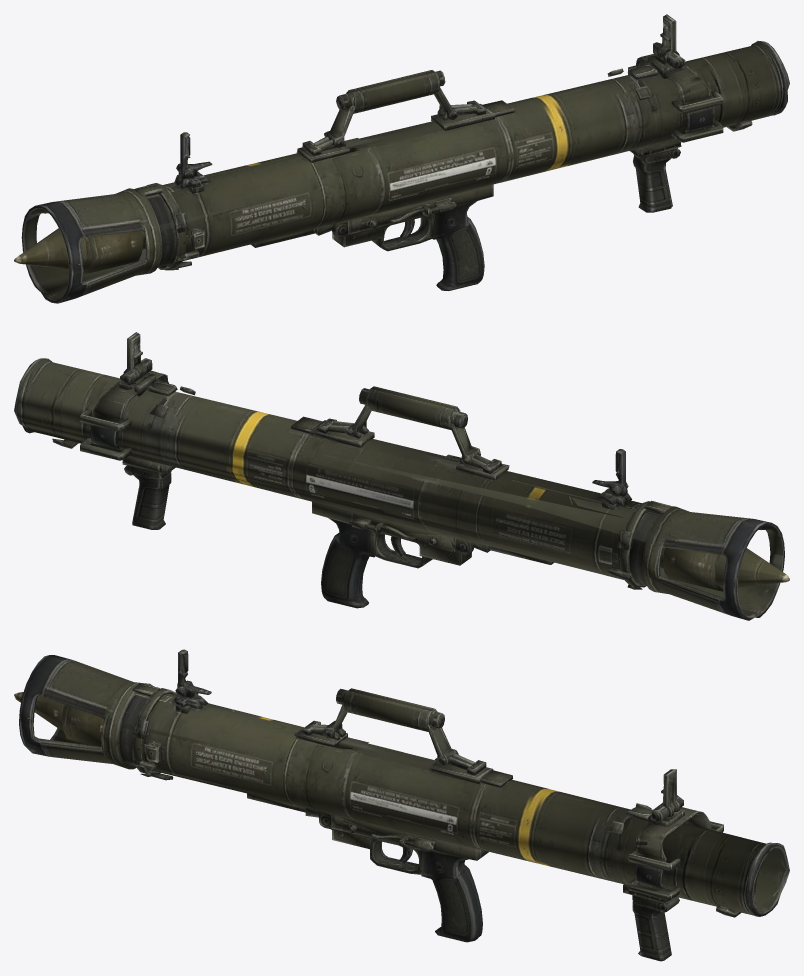
The model's file is arma_bazooka.glb.
The picture shows the model from 3 angles, top to bottom: view 1: azimuth 30°, elevation 25°; view 2: azimuth 150°, elevation 25°; view 3: azimuth 330°, elevation 25°; orthographic projection.
Size of the model in its own units: 0.9575 by 0.2647 by 0.1216.
1 material, 1 textured.
